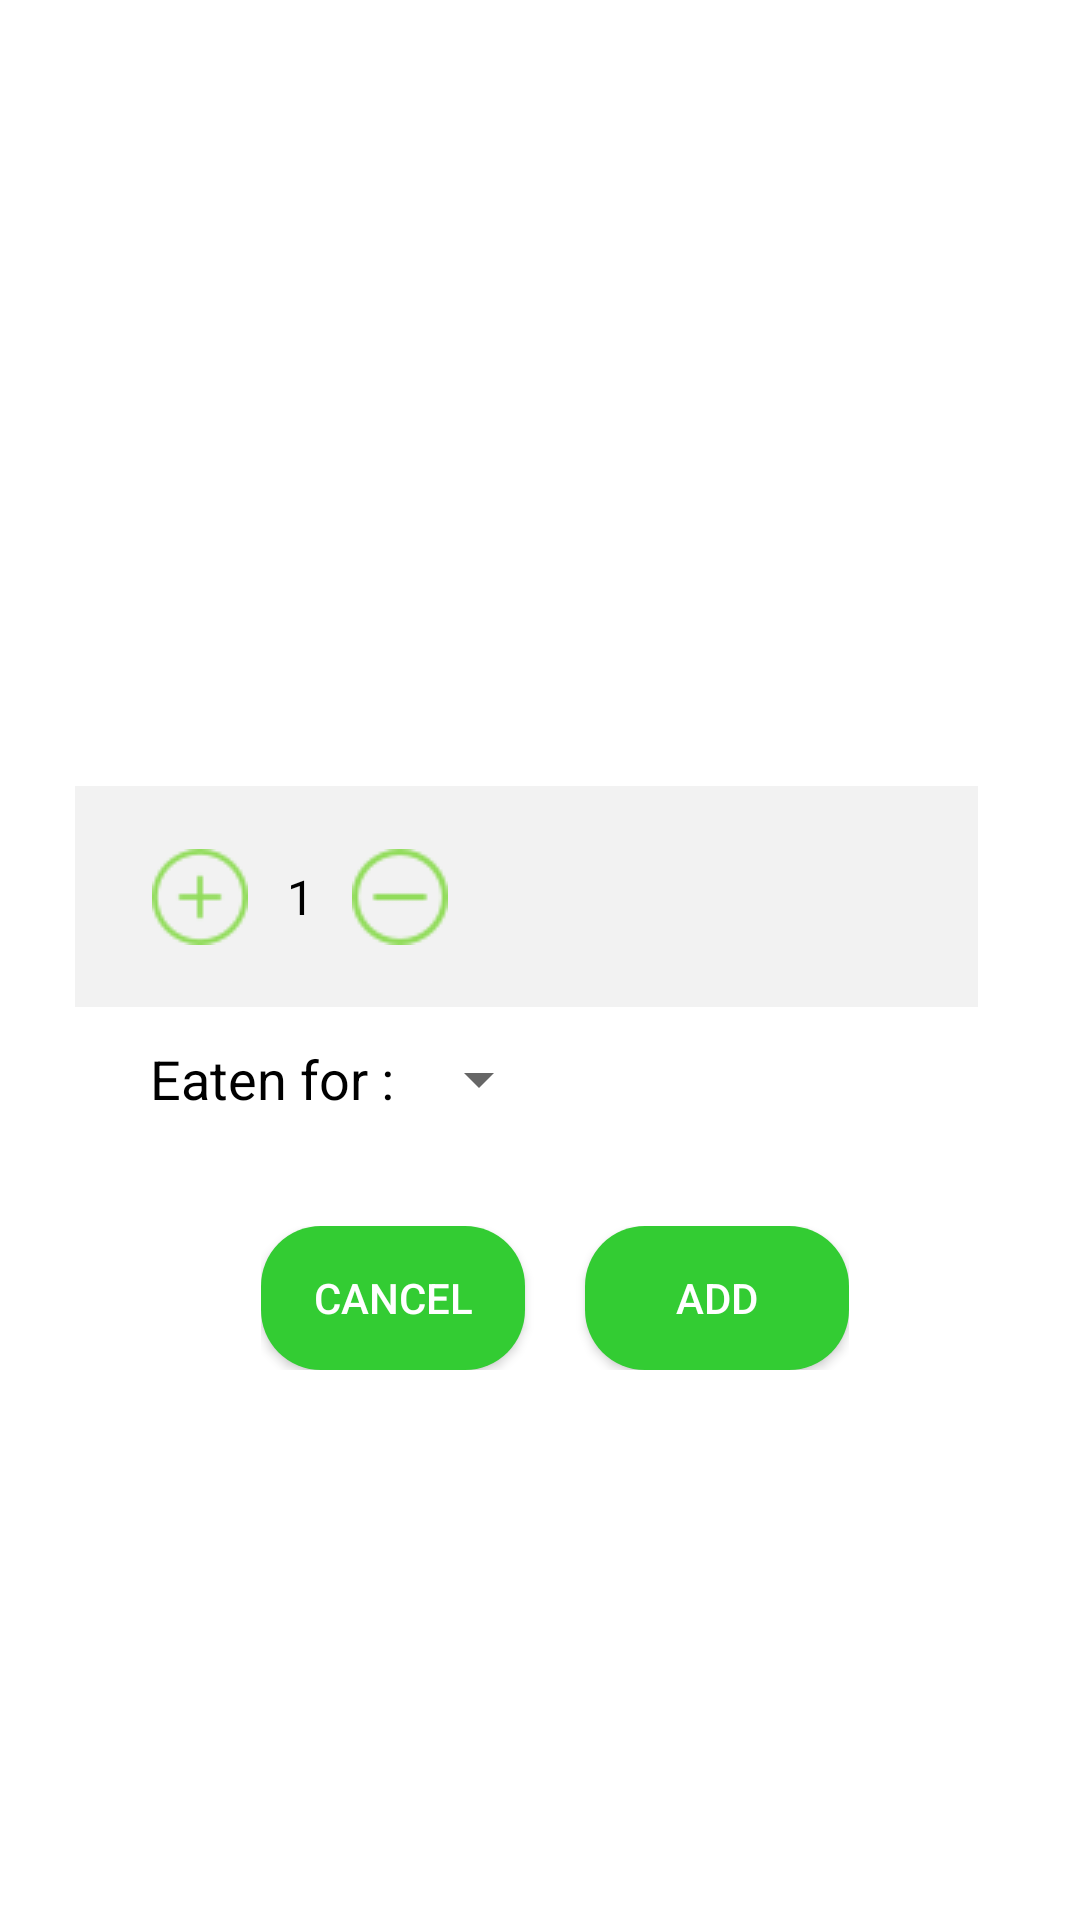

Where to tap for icons on this 1080x1920 app screen, as (x,y):
plu: (200,897)
sub: (400,897)
